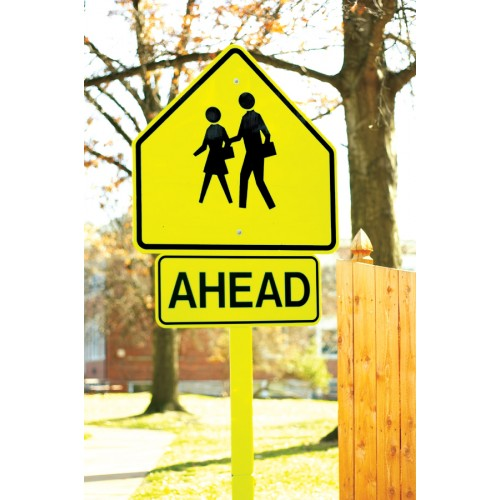slow: (129, 39, 342, 256)
